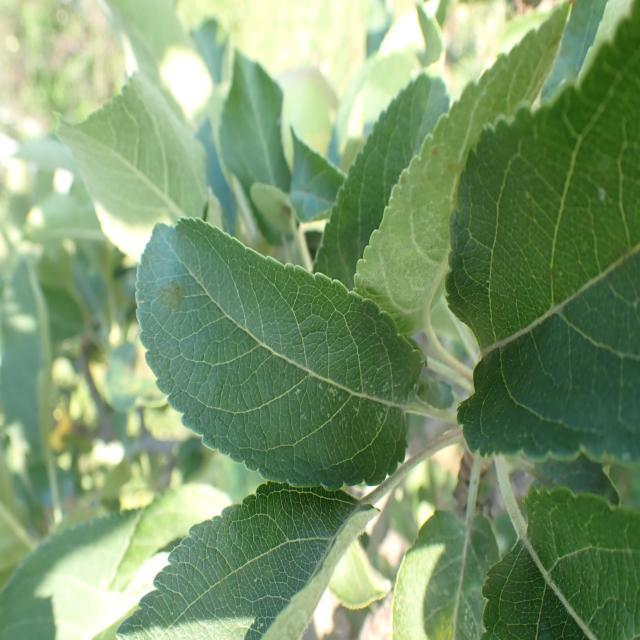scab: (207, 300, 410, 438), (393, 131, 472, 219), (138, 238, 194, 346)
